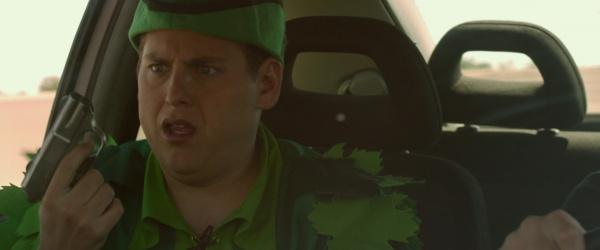Gun: (20, 90, 106, 206)
